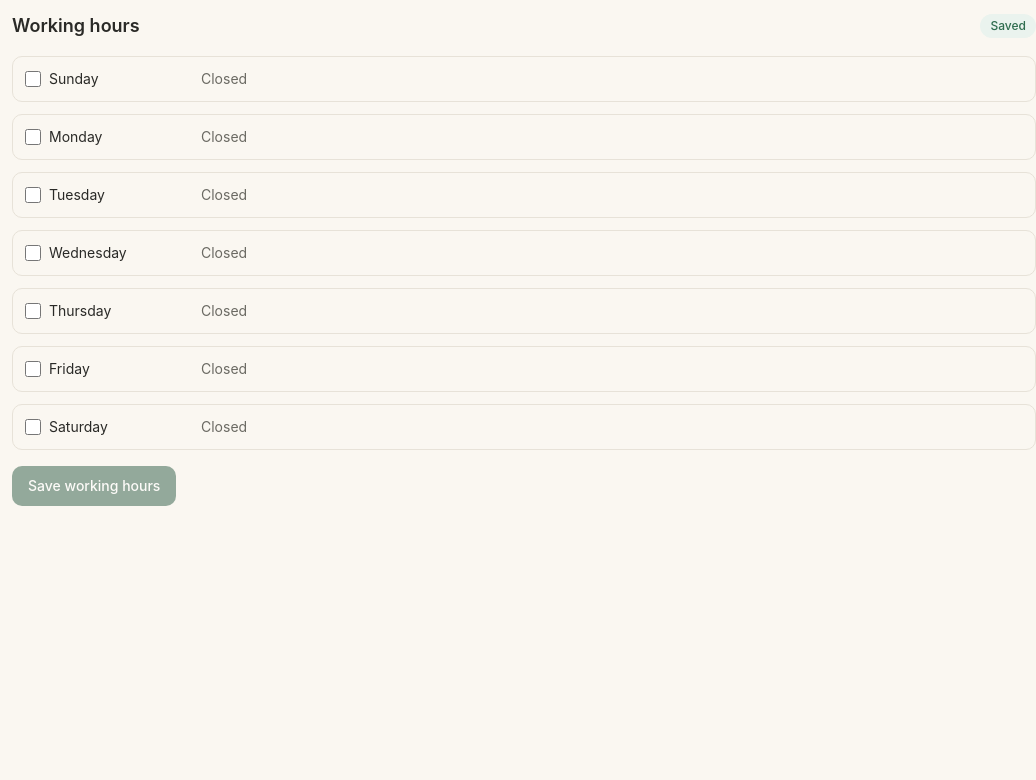
WorkingHoursEditor › reveals open/close time inputs when a day is enabled
This screenshot has width=1036, height=780.
Step 1. Click the checkbox labelled "Monday" → click(33, 137), box x1=25 y1=129 x2=41 y2=145
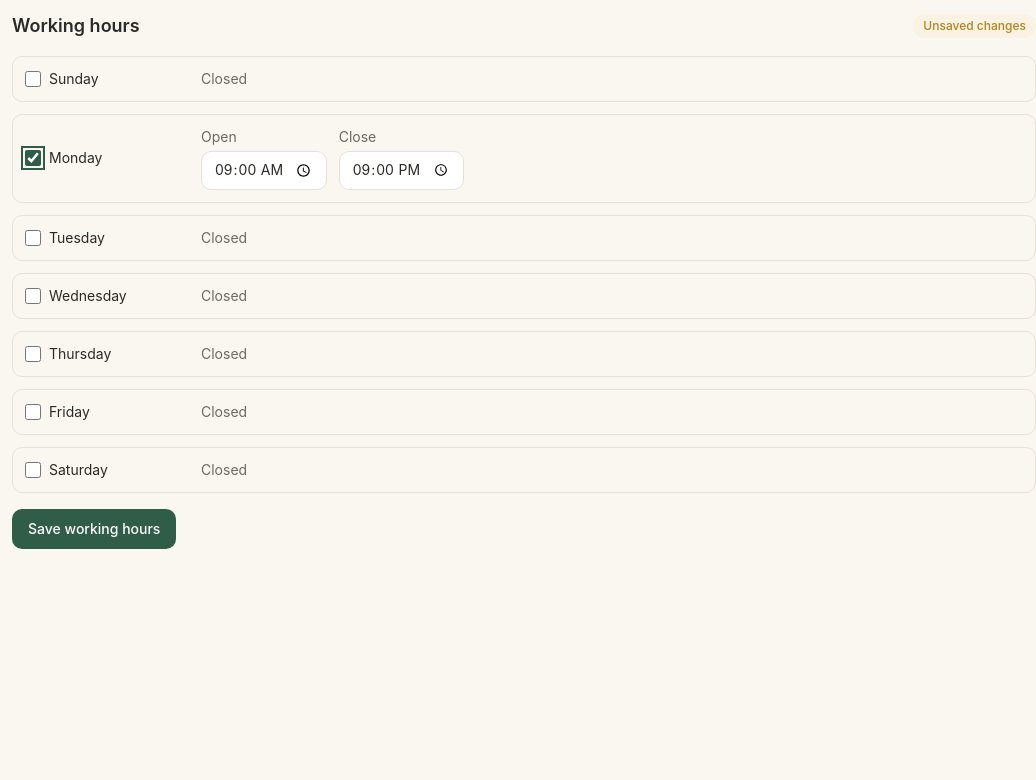
Now the text "Closed" is shown 6 times, box x1=201 y1=69 x2=247 y2=89; x1=201 y1=228 x2=247 y2=248; x1=201 y1=286 x2=247 y2=306; x1=201 y1=344 x2=247 y2=364; x1=201 y1=402 x2=247 y2=422; x1=201 y1=460 x2=247 y2=480
